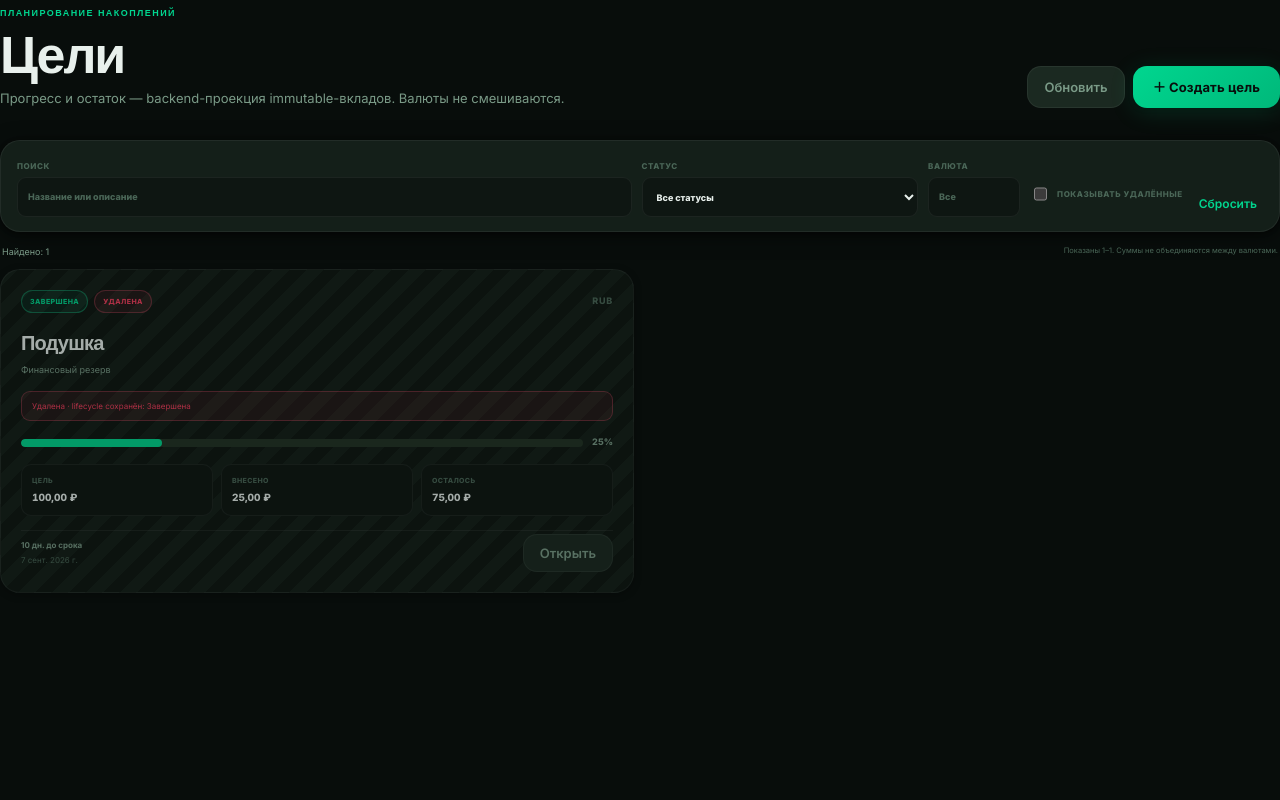
Test: restore also preserves a completed lifecycle instead of inventing active
What coordinates should you click on to do the following:
click the button "Открыть"
I would click on:
 (568, 553)
Its box is [523,534,613,572].
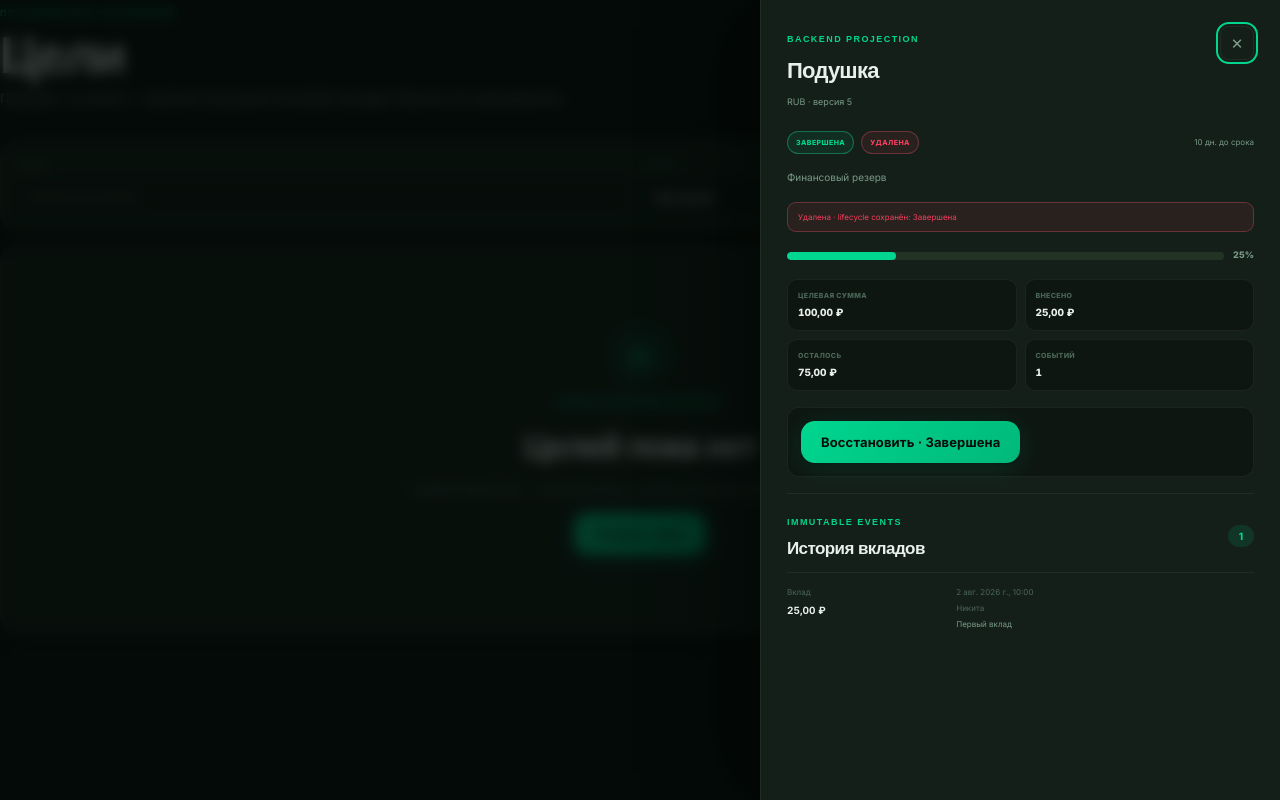
What coordinates should you click on to do the following:
click the button "Восстановить · Завершена"
I would click on:
 (911, 442)
Its box is [801,421,1020,463].
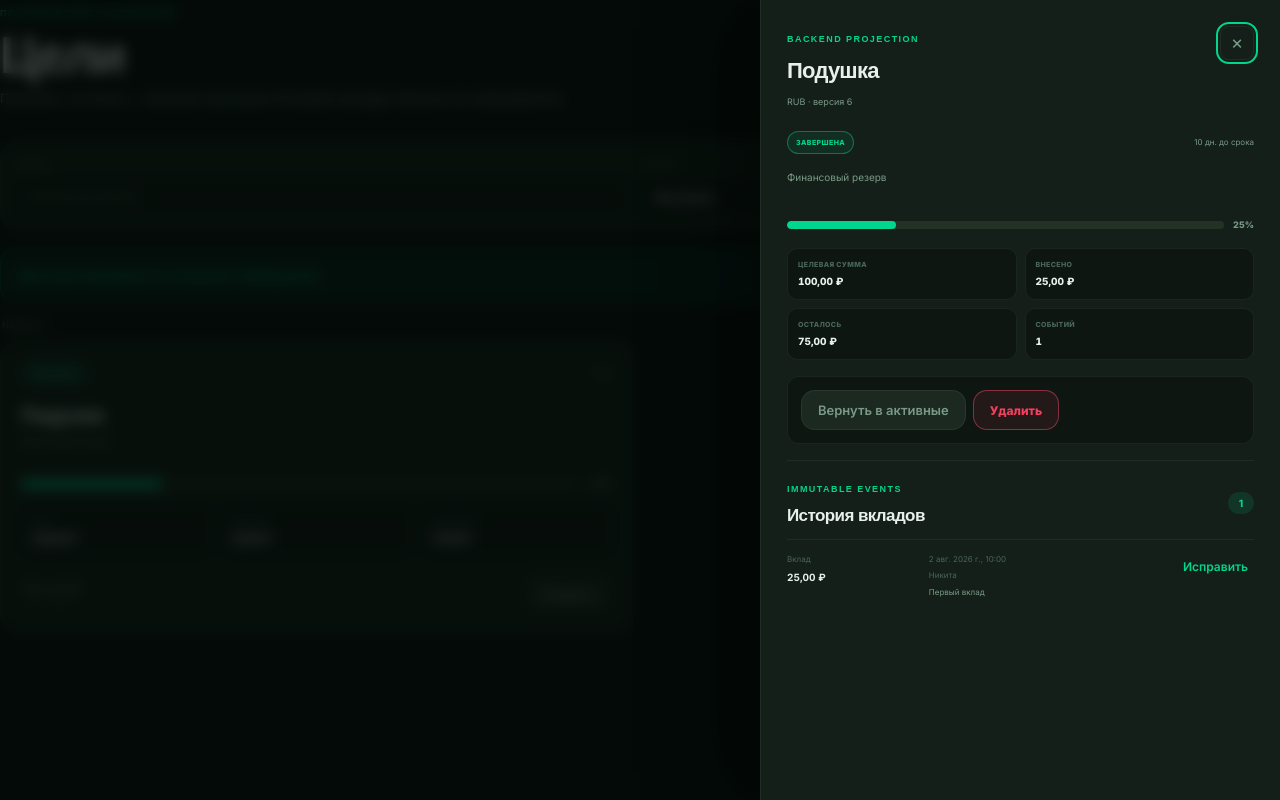
Now the dialog shows "Завершена", box [796,138,845,147]
Now the dialog shows "Вернуть в активные", box [801,390,966,430]
